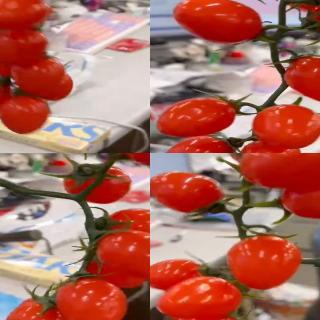tomato: (228, 238, 304, 292), (173, 0, 264, 44), (155, 275, 242, 320), (156, 96, 238, 138), (150, 171, 227, 215), (237, 153, 320, 191), (252, 105, 320, 150), (56, 277, 127, 320), (94, 229, 150, 280), (62, 165, 132, 205), (12, 55, 67, 98), (0, 93, 50, 134), (0, 25, 50, 65), (150, 258, 210, 291), (280, 171, 320, 217), (287, 55, 320, 104), (0, 0, 52, 31), (107, 207, 150, 242), (4, 299, 71, 320), (162, 136, 236, 153), (239, 141, 302, 153), (0, 78, 14, 112)
